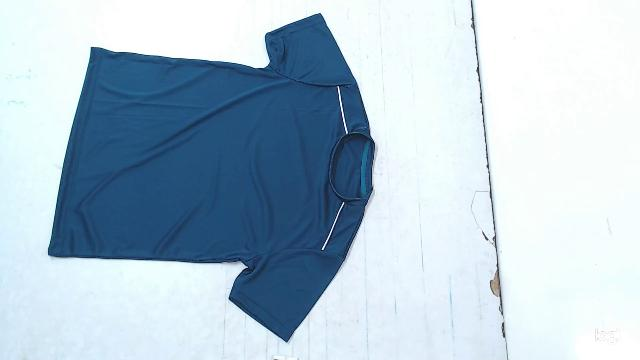new-garment: (48, 14, 374, 340)
